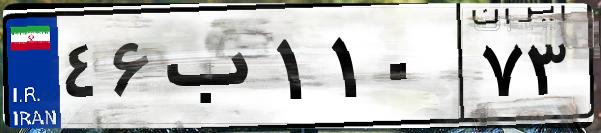0: (385, 28, 445, 110)
1: (270, 28, 330, 110), (330, 28, 385, 110)
3: (525, 38, 570, 115)
4: (57, 26, 110, 100)
6: (110, 28, 158, 98)
7: (475, 38, 525, 113)
ب: (158, 20, 270, 120)
